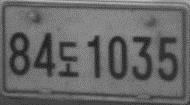0: (108, 35, 128, 79)
1: (87, 33, 103, 79)
3: (131, 34, 152, 81)
4: (31, 30, 56, 78)
5: (157, 36, 179, 81)
8: (7, 30, 31, 77)
도: (58, 40, 80, 79)
